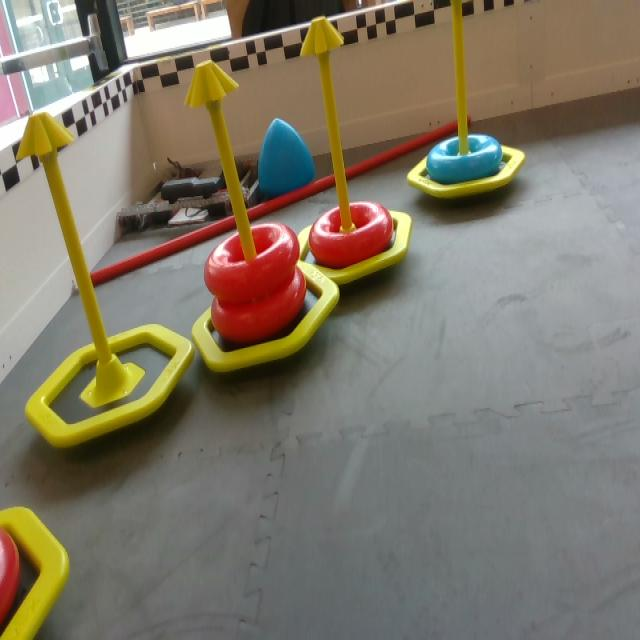Blue-Ring: (426, 129, 503, 190)
Mobile-Goal: (13, 116, 201, 461), (186, 55, 343, 379), (291, 10, 414, 290), (406, 0, 525, 202), (0, 500, 76, 639)
Red-Ring: (204, 222, 299, 305), (214, 270, 308, 344), (312, 200, 394, 264), (0, 526, 24, 625)
Yellow-Stake-Head: (17, 110, 75, 164), (186, 57, 238, 111), (300, 17, 346, 58)
